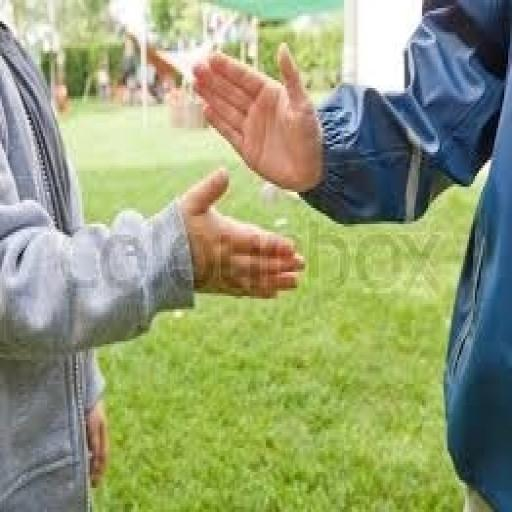clapping: (187, 0, 510, 509), (0, 0, 307, 509)
